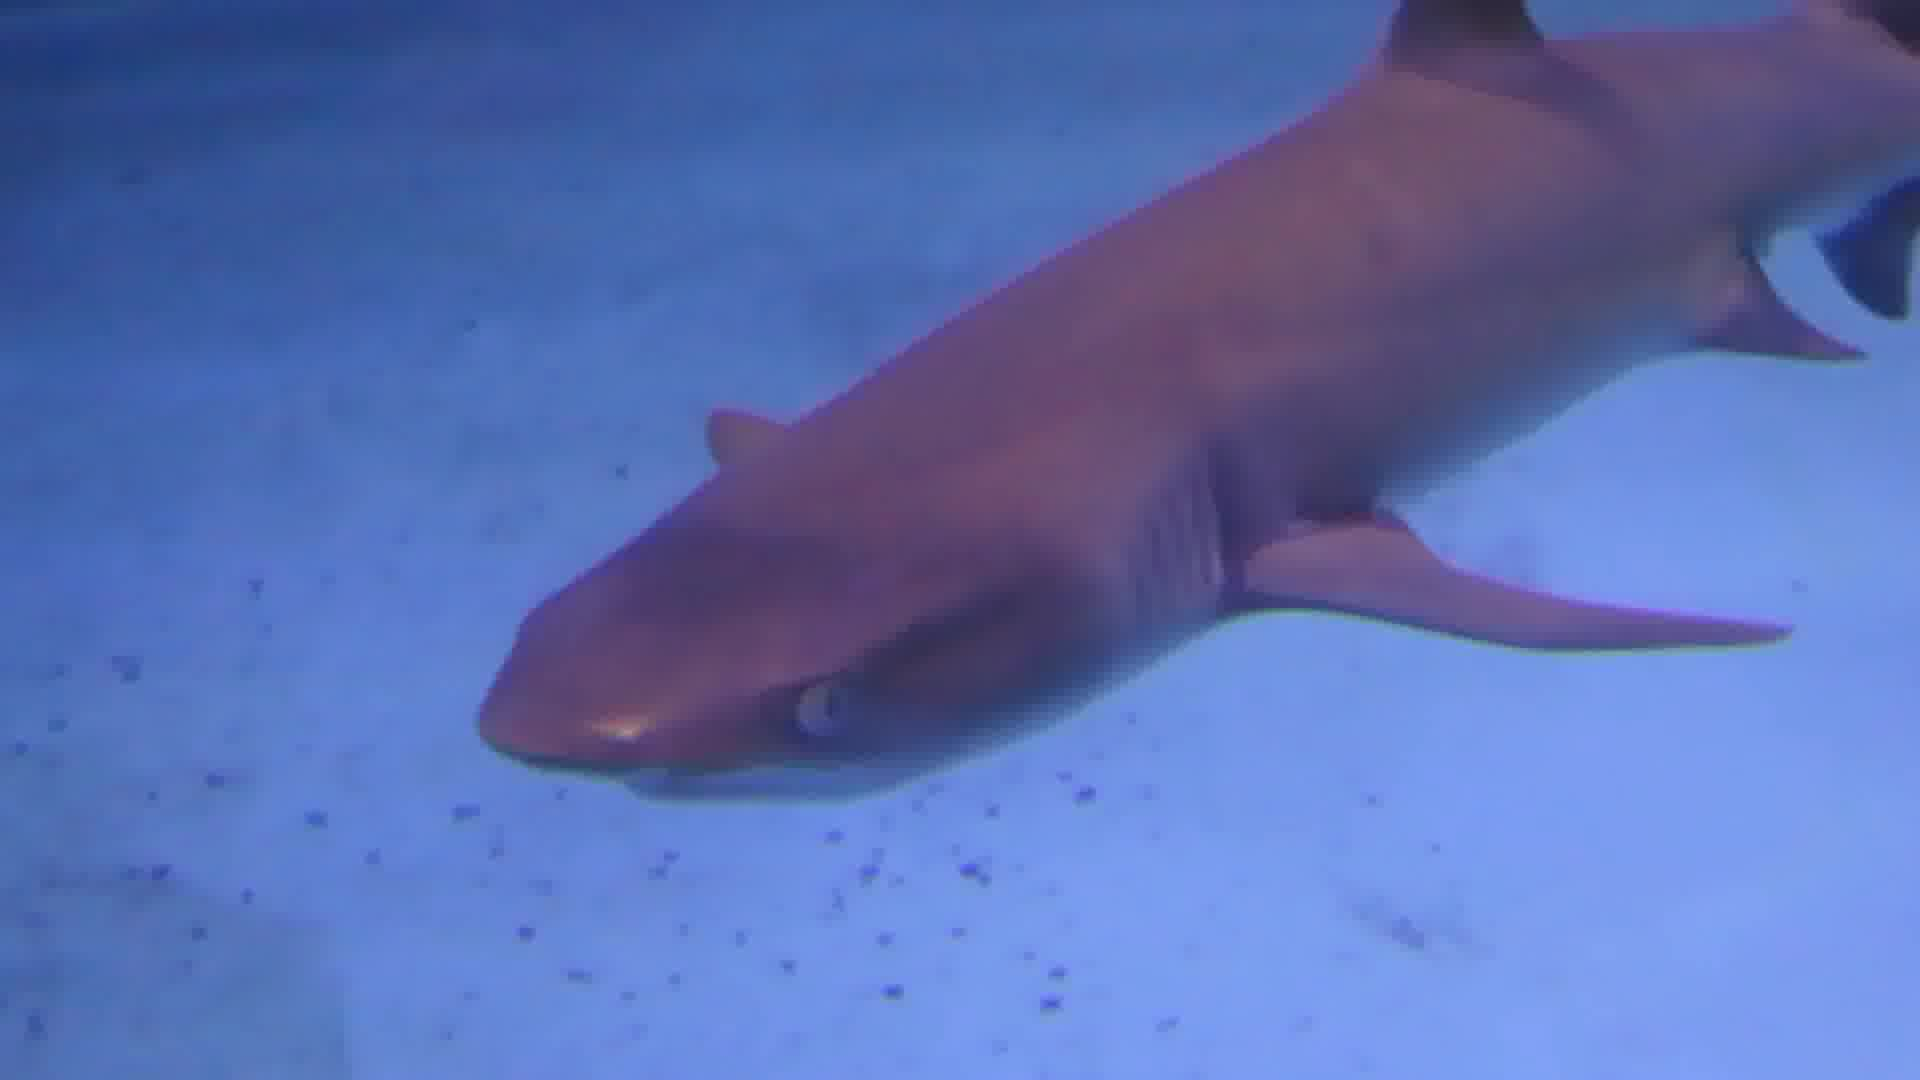Triaenodon obesus: (467, 17, 1880, 818)
